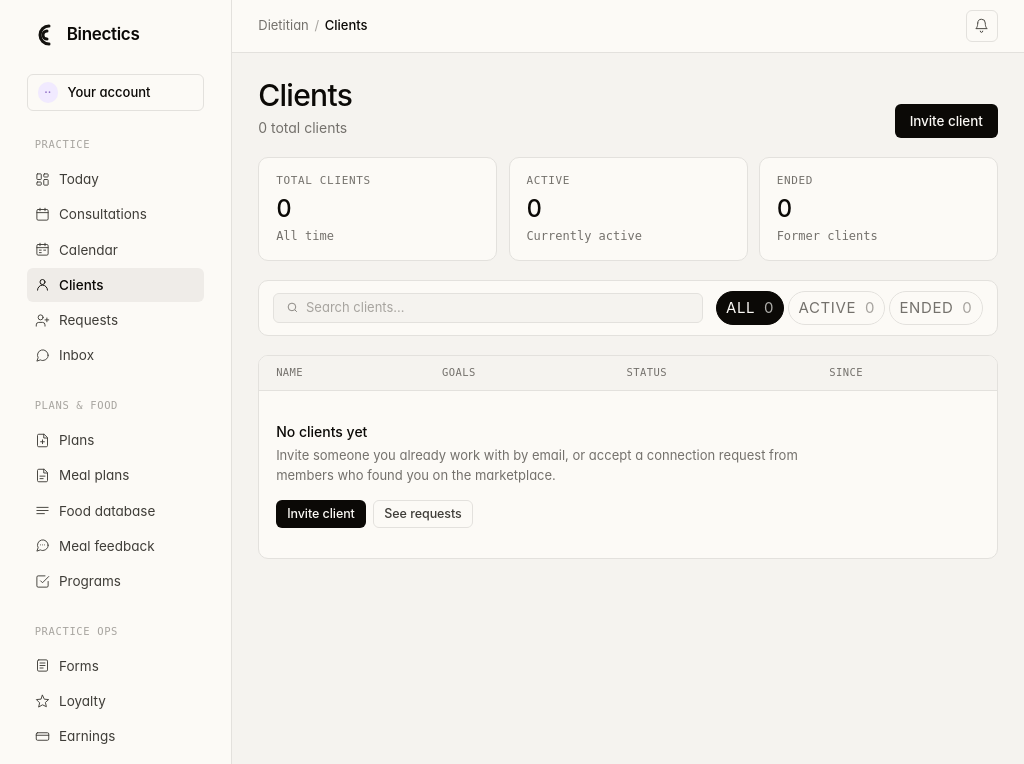
Test case: Dietitian clients: inviting a client (F5) › sends the invite through the same add-client flow trainers use, and says what happens next
Click the button "Invite client" in the row of "0 total clients": (946, 121) [895,104,998,138]
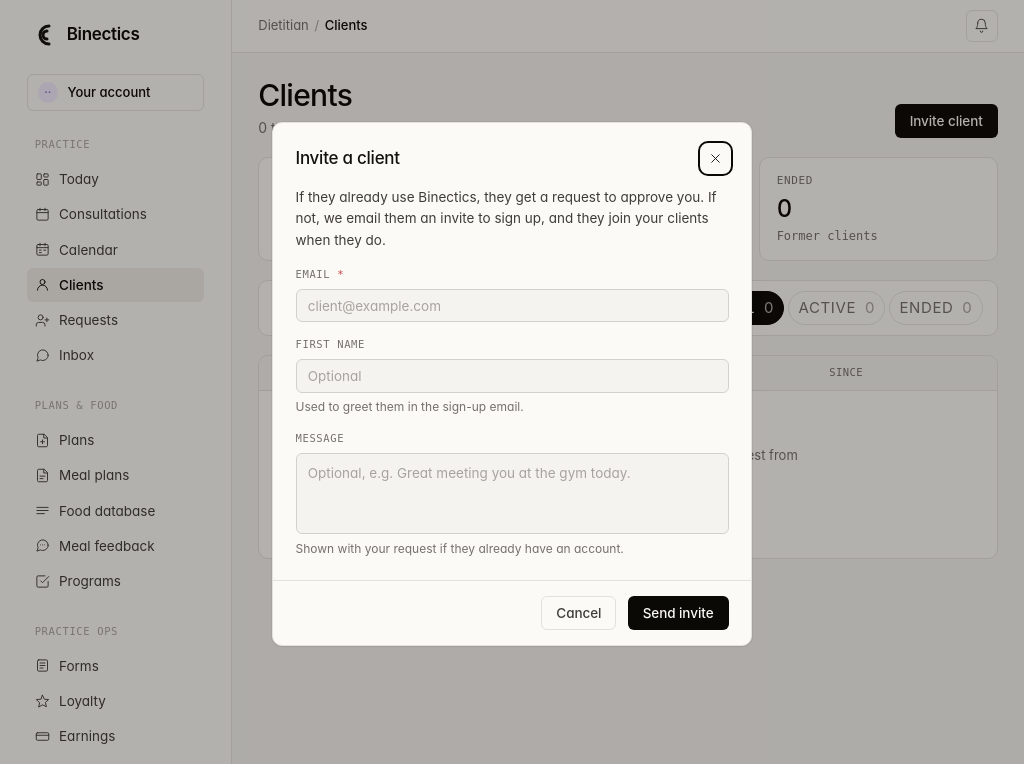
In the field labelled "Email *": (512, 306) [296,289,728,322], type "kemi@example.com"
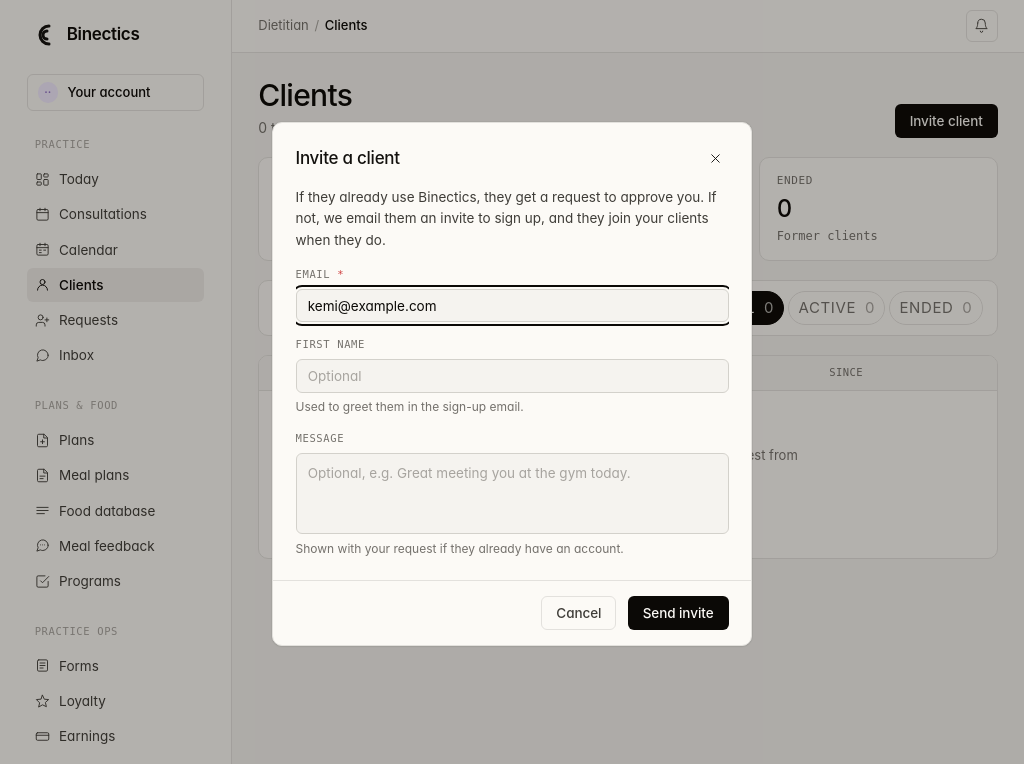
Click the button "Send invite": (678, 613) [628,596,728,630]
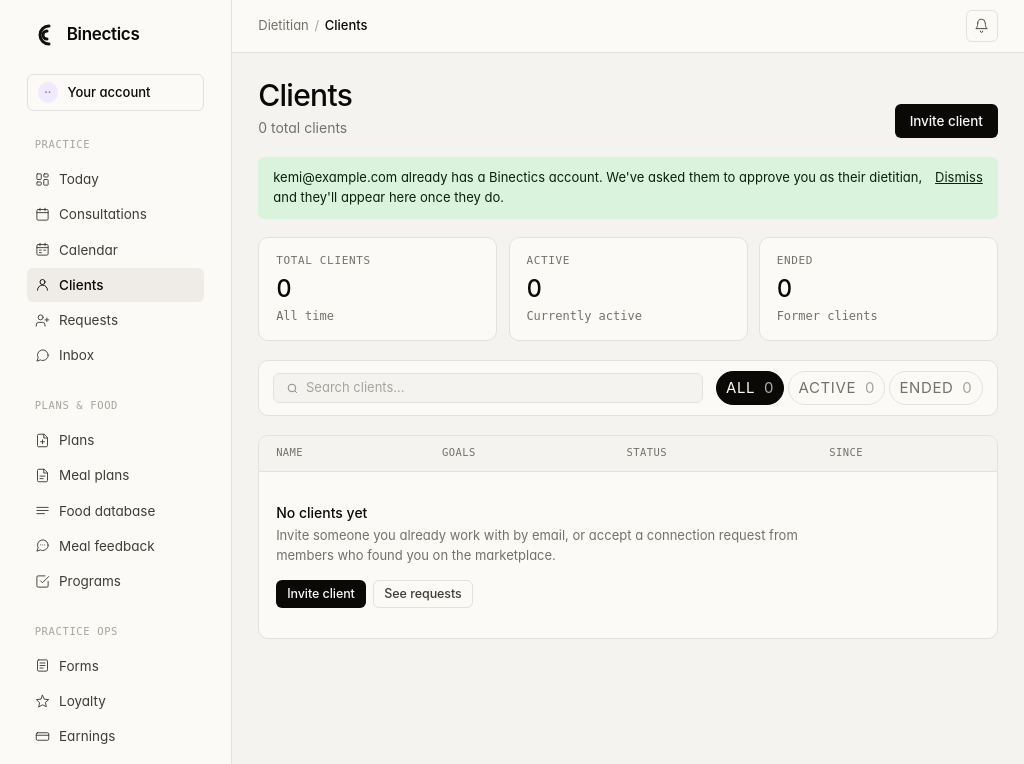
Expected: the text "We've asked them to approve you as their dietitian" is shown, [273,169,922,205]
